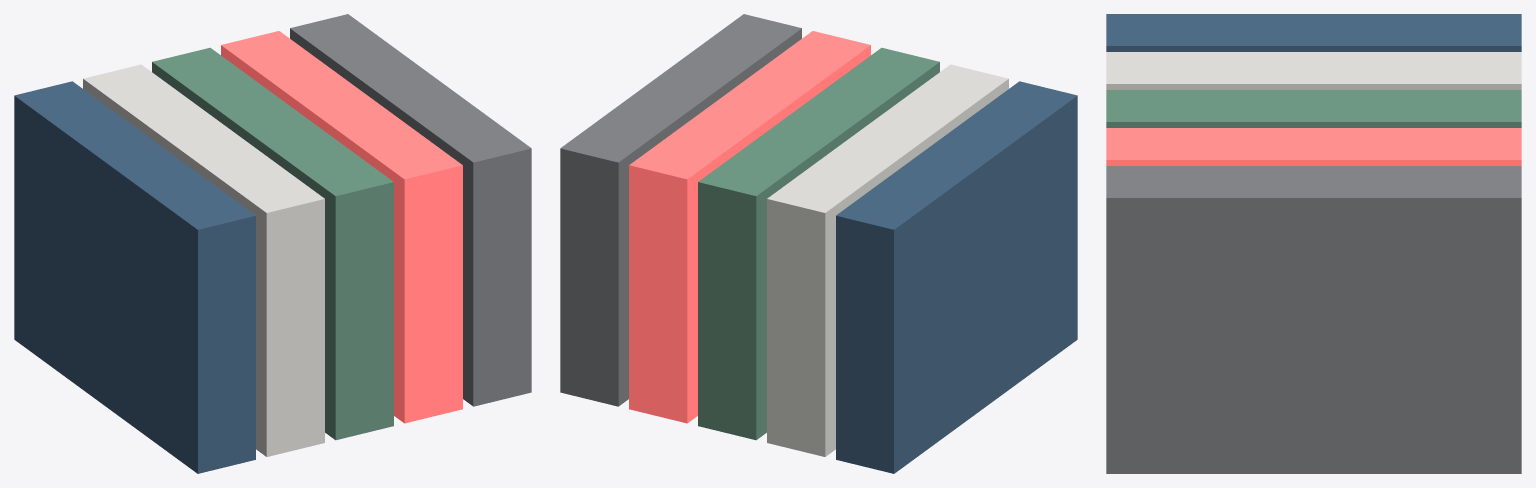
File: BINDER_SET_001.glb
3 views of the same model, side by side, from view 1: azimuth 30°, elevation 25°; view 2: azimuth 150°, elevation 25°; view 3: azimuth 270°, elevation 25° (orthographic). The views are drawn at different scales.
Parts seen in each view (by area): view 1: binder_000, binder_002, binder_004, binder_001, binder_003; view 2: binder_000, binder_002, binder_004, binder_001, binder_003; view 3: binder_004, binder_000, binder_001, binder_002, binder_003.
Part boxes in pixels (bbox=[...]): binder_000: bbox=[14, 81, 255, 473]; binder_002: bbox=[152, 47, 393, 440]; binder_004: bbox=[290, 14, 531, 406]; binder_001: bbox=[83, 64, 324, 456]; binder_003: bbox=[221, 31, 462, 423]; binder_000: bbox=[836, 81, 1077, 473]; binder_002: bbox=[698, 47, 939, 440]; binder_004: bbox=[560, 14, 801, 406]; binder_001: bbox=[767, 64, 1008, 456]; binder_003: bbox=[629, 31, 870, 423]; binder_004: bbox=[1106, 166, 1521, 473]; binder_000: bbox=[1106, 14, 1521, 51]; binder_001: bbox=[1106, 52, 1521, 89]; binder_002: bbox=[1106, 90, 1521, 127]; binder_003: bbox=[1106, 128, 1521, 165].
Bounding box in the file's own units: 0.315 × 0.22 × 0.3.
